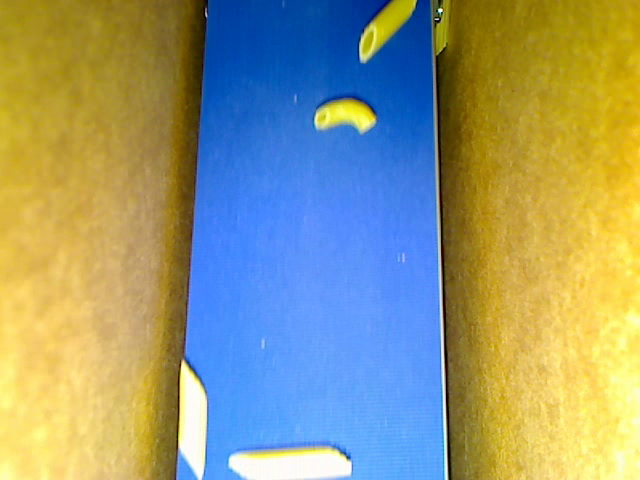elbow: (315, 100, 380, 134)
penne: (175, 356, 211, 476), (356, 1, 418, 69), (224, 451, 360, 479), (434, 1, 456, 59)
